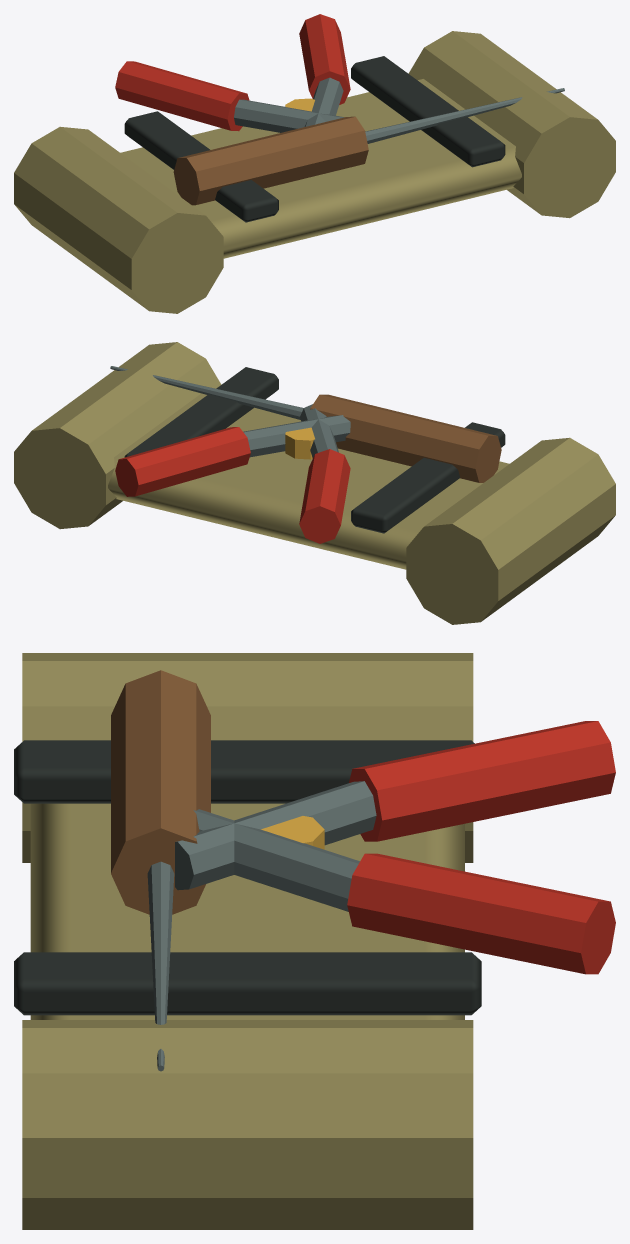
Rendered from DisarmKit.glb.
3 views of the same model, one above another, from view 1: azimuth 30°, elevation 25°; view 2: azimuth 150°, elevation 25°; view 3: azimuth 270°, elevation 25° (orthographic). The views are drawn at different scales.
Parts seen in each view (by area): view 1: DisarmKit; view 2: DisarmKit; view 3: DisarmKit.
Boxes of the visible parts, x1,y1,x2,y2 form: DisarmKit: (14,14,615,313); DisarmKit: (14,342,615,624); DisarmKit: (14,653,615,1229).
Bounding box in the file's own units: 0.3209 × 0.075 × 0.1802.
